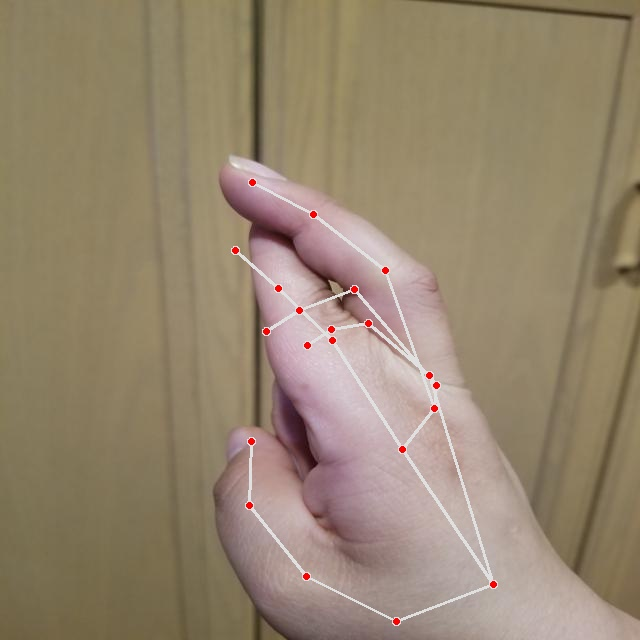R: (203, 147, 594, 640)
